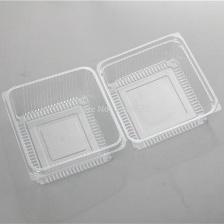plastic_box: (0, 26, 224, 190)
